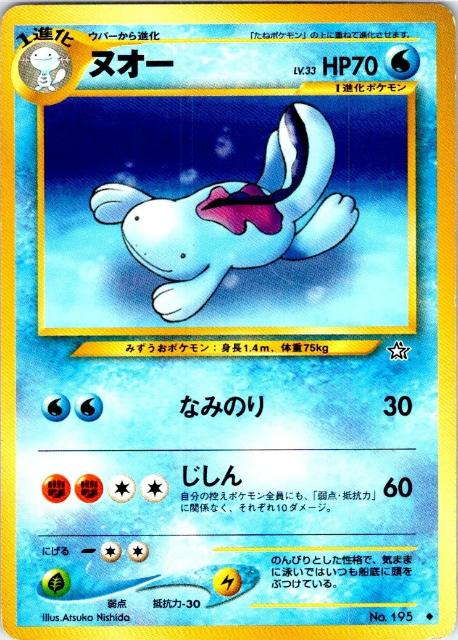Card: (0, 1, 458, 639)
Name: (84, 47, 179, 86)
